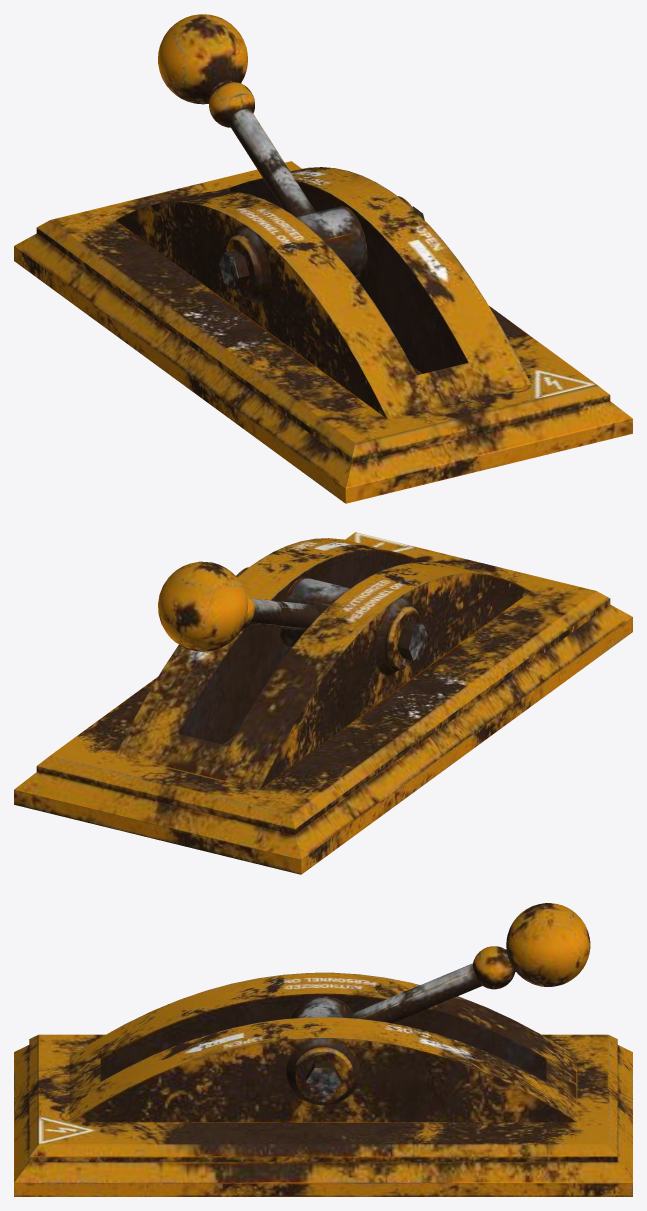
Rendered from power_lever.glb.
The picture shows the model from 3 angles, top to bottom: view 1: azimuth 30°, elevation 25°; view 2: azimuth 150°, elevation 25°; view 3: azimuth 270°, elevation 25°; orthographic projection. The views are drawn at different scales.
Parts seen in each view (by area): view 1: PowerLever; view 2: PowerLever; view 3: PowerLever.
Boxes of the visible parts, left/top/right/bottom form: PowerLever: left=14, top=14, right=632, bottom=503; PowerLever: left=14, top=532, right=632, bottom=874; PowerLever: left=14, top=903, right=632, bottom=1196.
Bounding box in the file's own units: 0.275 × 0.2201 × 0.55.
1 material, 1 textured.
